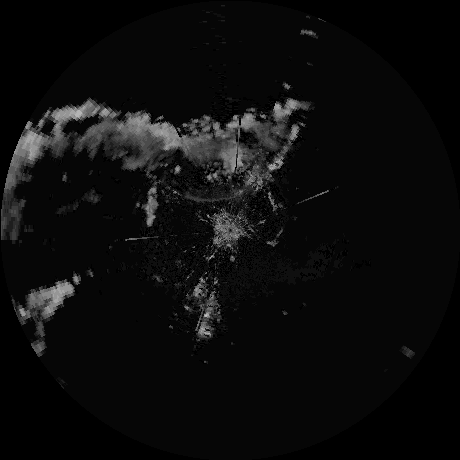frontgust: (183, 190, 243, 204)
